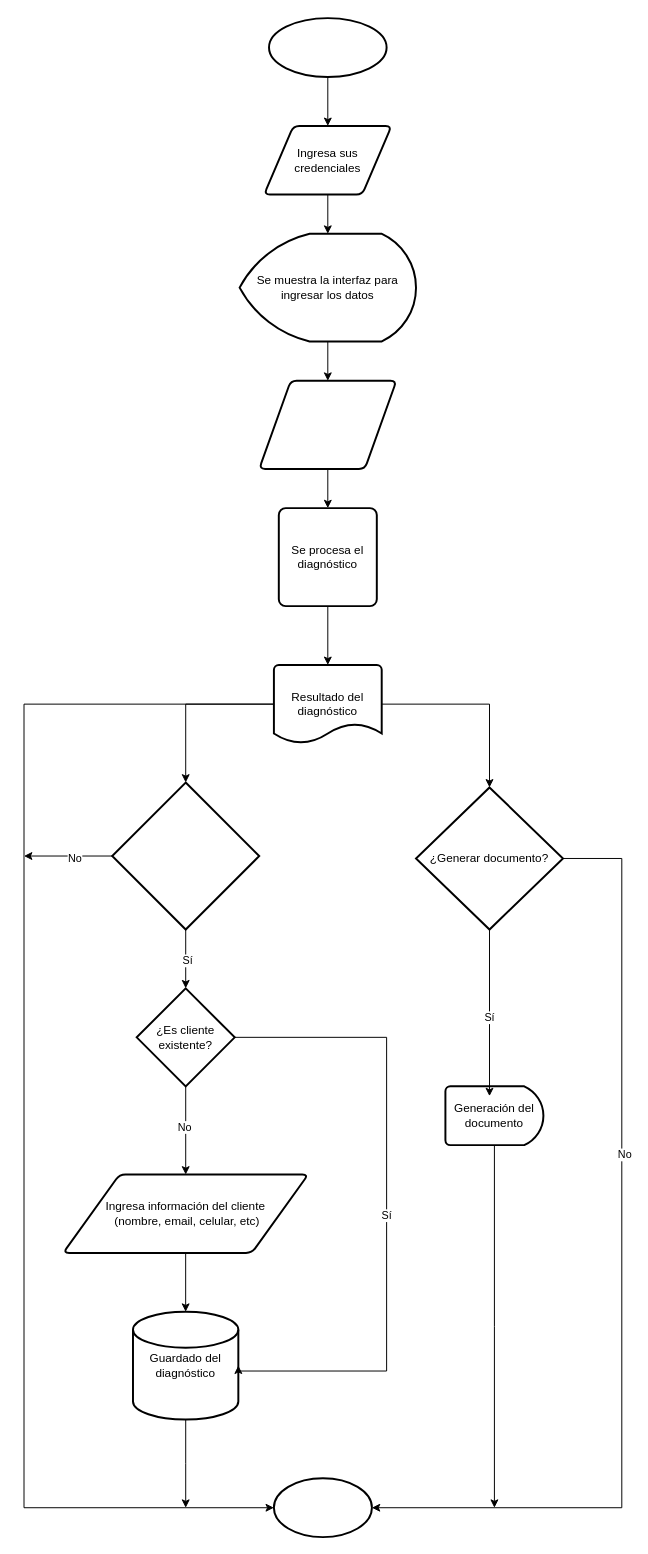
Some shapes in this 648 by 1554 pixel diagram are drawn without their labels. Here are the shapes that lost their labels. From the top down, the centre of each, then its label:
At pixel 327 47: "Ingresa a la app".
At pixel 327 424: "Ingresa los datos capilares".
At pixel 185 855: "¿Guardar el diagnóstico?".
At pixel 322 1507: "Fin".
